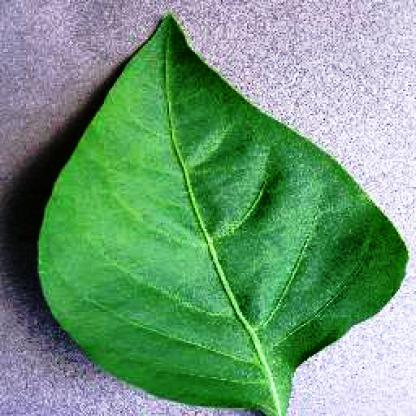Healthy: (34, 11, 410, 414)
